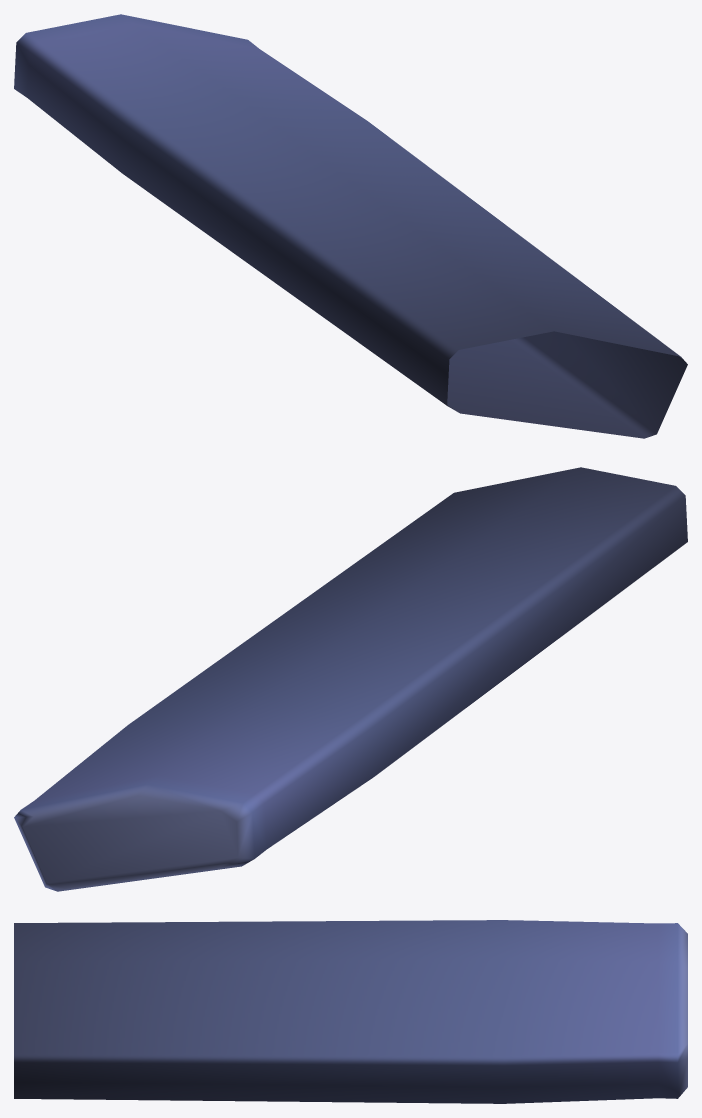
The model's file is Mountain_Cliff_03.fbx.
The picture shows the model from 3 angles, top to bottom: view 1: azimuth 30°, elevation 25°; view 2: azimuth 150°, elevation 25°; view 3: azimuth 270°, elevation 25°; orthographic projection. The views are drawn at different scales.
Visible parts, largest first — view 1: Mountain_Cliff_03; view 2: Mountain_Cliff_03; view 3: Mountain_Cliff_03.
Part boxes in pixels (<box>): Mountain_Cliff_03: <box>14,14,687,438</box>; Mountain_Cliff_03: <box>14,467,687,891</box>; Mountain_Cliff_03: <box>14,920,687,1103</box>.
Size of the model in its own units: 1330 by 707 by 4008.
